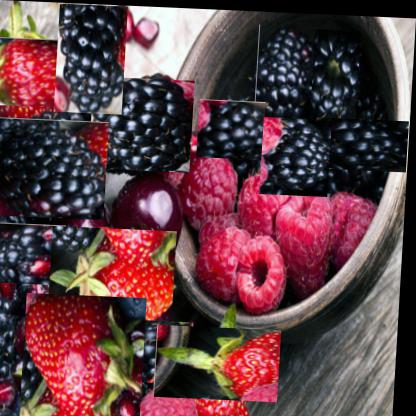blackberry: (0, 112, 106, 226), (92, 72, 195, 174), (54, 2, 130, 115), (254, 22, 316, 130), (326, 103, 406, 181), (259, 116, 336, 193), (306, 25, 363, 120), (124, 315, 196, 386), (0, 213, 62, 295), (200, 96, 266, 161), (0, 282, 27, 385)
strawberry: (23, 291, 152, 415), (50, 225, 181, 337), (171, 310, 274, 413), (0, 19, 86, 127)
